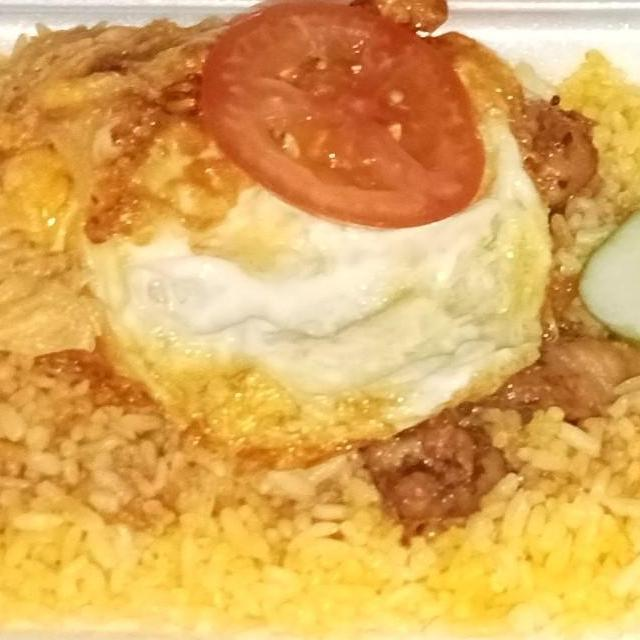ca: (0, 340, 228, 640), (456, 400, 640, 640), (213, 448, 422, 640), (537, 43, 640, 273)
trung: (0, 0, 555, 457)
